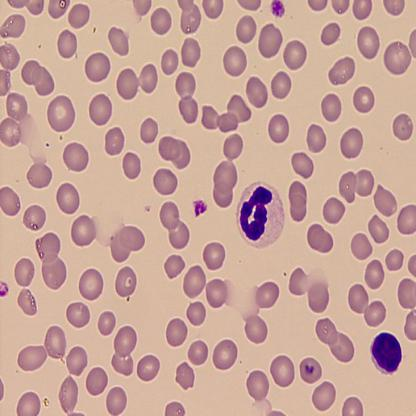Segmented neutrophil: (234, 178, 286, 250)
